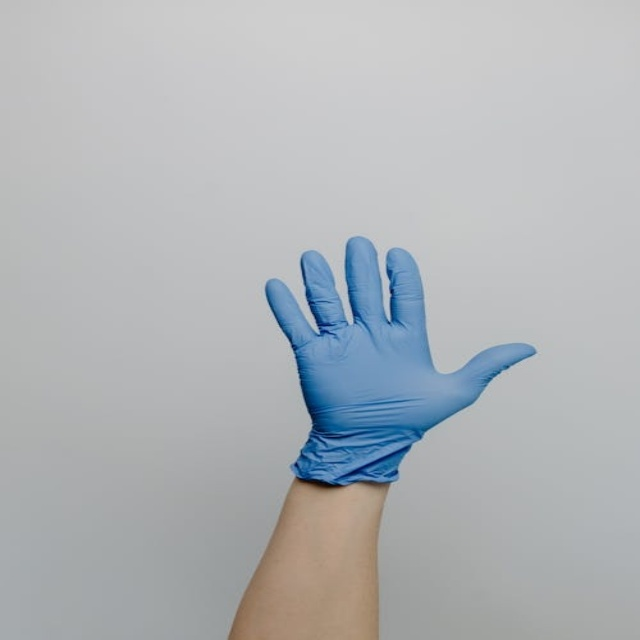Guantes: (264, 236, 535, 487)
